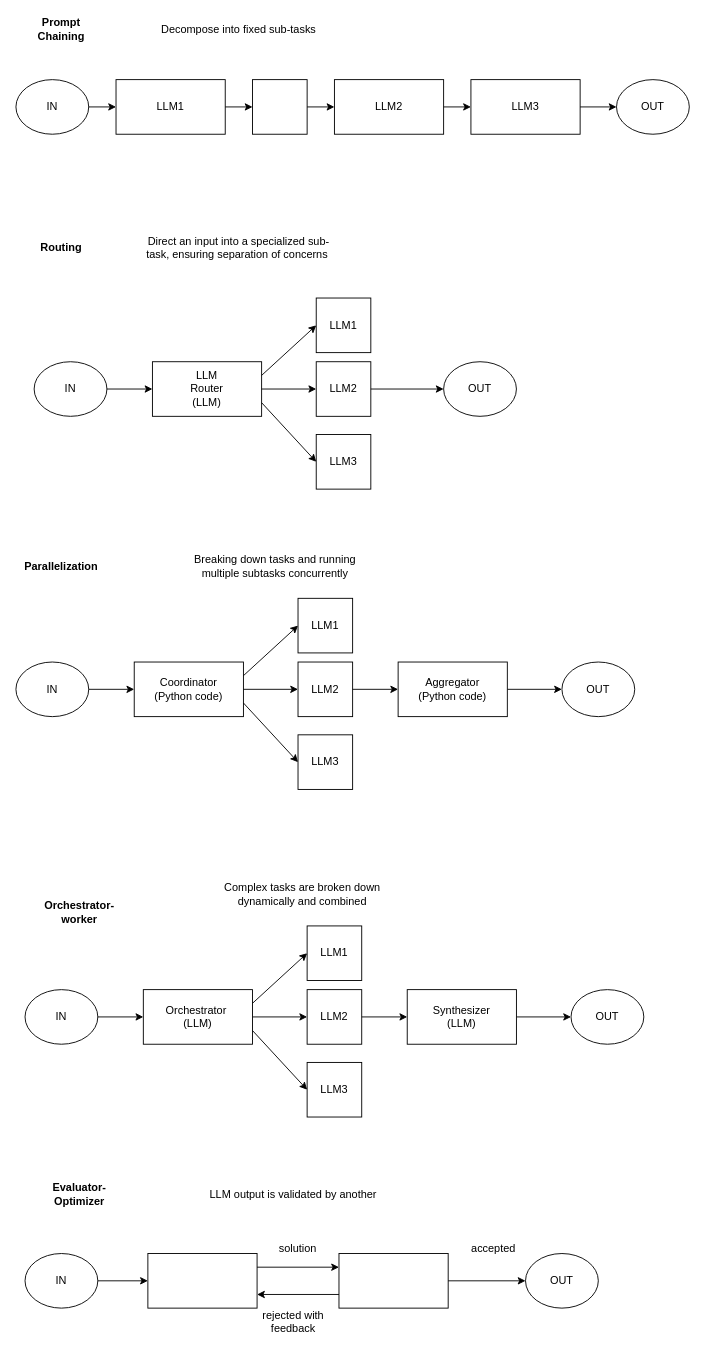
Some shapes in this 705 by 1350 pixel diagram are drawn without their labels. The centre of each missing label's shape, as x and y in pixels:
GATE: pixel 279 106
LLM Evaluator: pixel 393 1280
LLM Generator: pixel 202 1280
